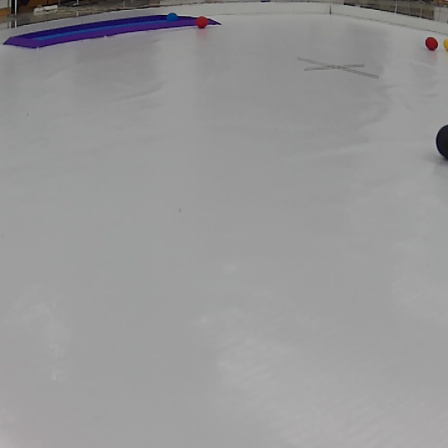black: (436, 121, 448, 156)
blue: (167, 12, 181, 23)
blue_aim: (12, 11, 229, 46)
red: (422, 37, 440, 54), (196, 17, 207, 28)
yellow: (444, 35, 448, 53)
